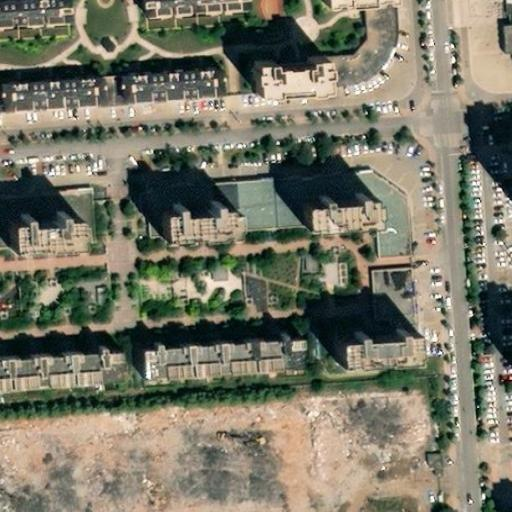building: (152, 186, 413, 281), (141, 349, 302, 396), (327, 10, 396, 112), (0, 360, 119, 406), (0, 200, 100, 253), (376, 284, 425, 392), (143, 1, 254, 41), (2, 96, 107, 138), (129, 84, 230, 127), (337, 343, 418, 382), (255, 78, 330, 119), (304, 216, 378, 253), (160, 226, 236, 262), (8, 229, 79, 265), (104, 94, 131, 129), (499, 19, 512, 51)
